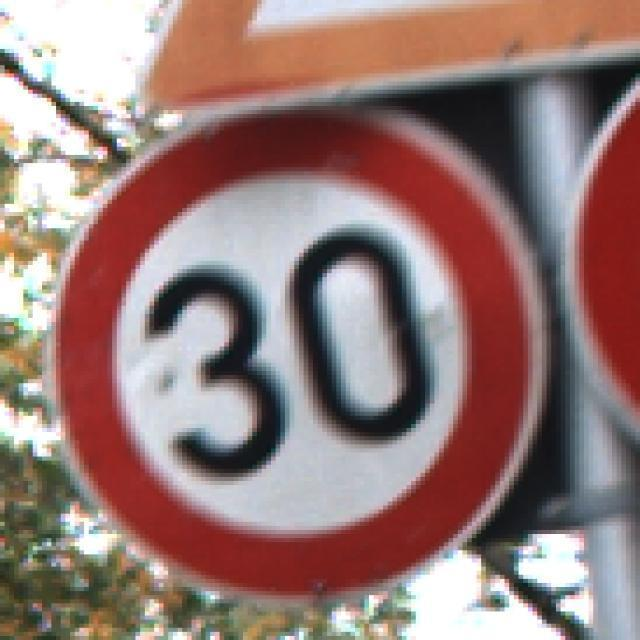speed limit 30: (46, 104, 547, 599)
